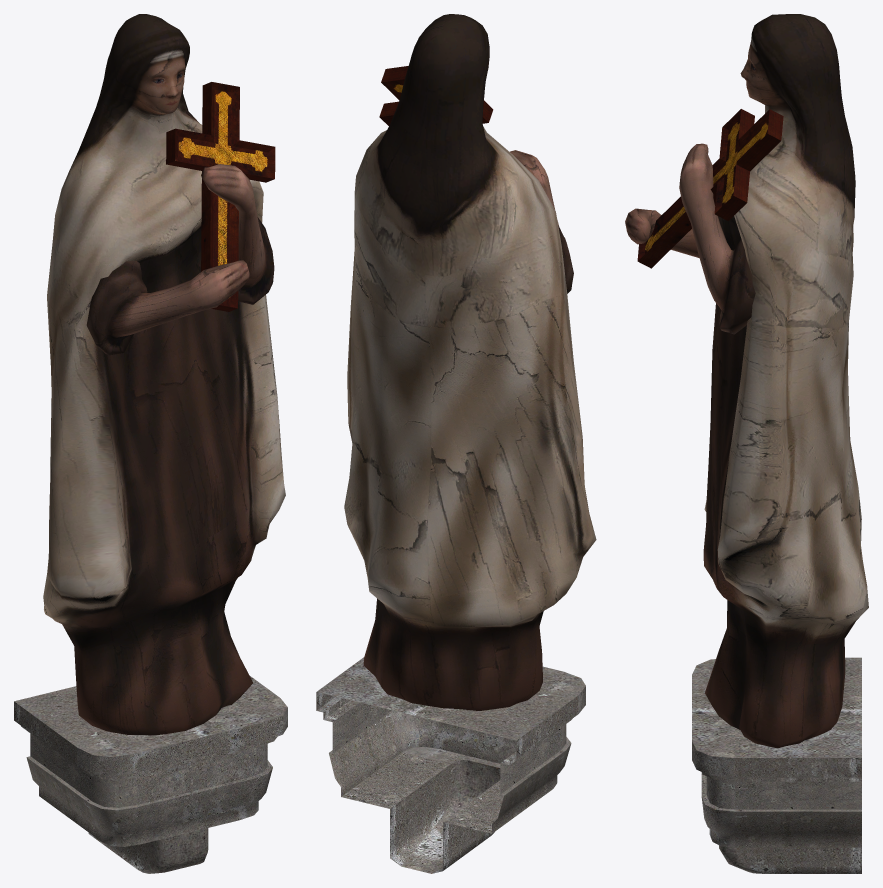
File: statue01.DAE
3 views of the same model, side by side, from view 1: azimuth 30°, elevation 25°; view 2: azimuth 150°, elevation 25°; view 3: azimuth 270°, elevation 25° (orthographic). The views are drawn at different scales.
Visible parts, largest first — view 1: Object003; view 2: Object003; view 3: Object003.
Boxes of the visible parts, x1,y1,x2,y2 form: Object003: [14, 14, 287, 873]; Object003: [316, 14, 596, 873]; Object003: [625, 14, 868, 873].
Bounding box in the file's own units: 0.8885 × 0.7901 × 3.04.
